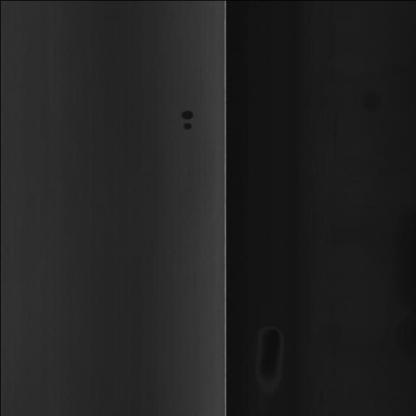oil_spot: (172, 98, 200, 135)
